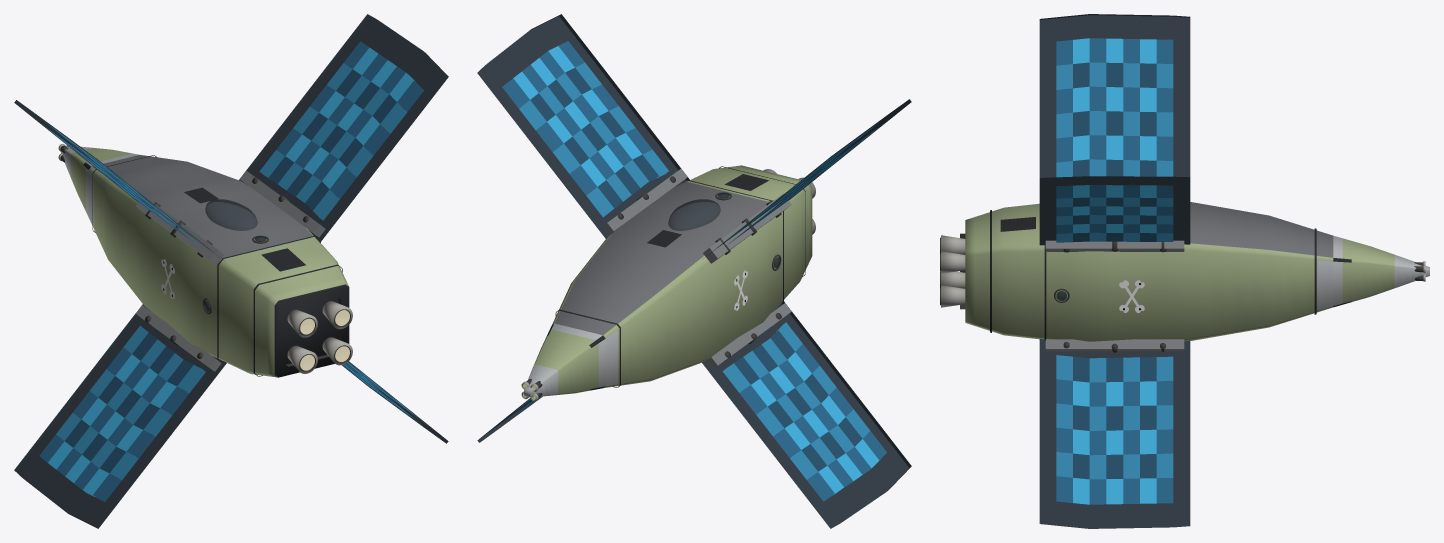
The model's file is Ship_Crosspanel_10.glb.
The picture shows the model from 3 angles, left to right: view 1: azimuth 30°, elevation 25°; view 2: azimuth 150°, elevation 25°; view 3: azimuth 270°, elevation 25°; orthographic projection. The views are drawn at different scales.
Parts seen in each view (by area): view 1: Fuselage_SquareBody, SolarPanelWing_TopRightRidge_RectangularPhotovoltaicGrid, SolarPanelWing_LowerLeftRidge_RectangularPhotovoltaicGrid, SolarPanelWing_TopLeftRidge_RectangularPhotovoltaicGrid, Nose_SquareTaperedForwardSection, Canopy_DorsalLowSquareBubble, SolarPanelWing_TopLeftRidge_RootHingeClamp, SolarPanelWing_TopRightRidge_RootHingeClamp, SolarPanelWing_LowerLeftRidge_RootHingeClamp, SolarPanelWing_LowerRightRidge_RectangularPhotovoltaicGrid, EngineEmitter, HullAccessPanel_TopAft; view 2: Fuselage_SquareBody, SolarPanelWing_TopRightRidge_RectangularPhotovoltaicGrid, SolarPanelWing_LowerLeftRidge_RectangularPhotovoltaicGrid, Nose_SquareTaperedForwardSection, SolarPanelWing_TopLeftRidge_RectangularPhotovoltaicGrid, Canopy_DorsalLowSquareBubble, SolarPanelWing_TopLeftRidge_RootHingeClamp, SolarPanelWing_TopRightRidge_RootHingeClamp, SolarPanelWing_LowerLeftRidge_RootHingeClamp; view 3: Fuselage_SquareBody, SolarPanelWing_LowerRightRidge_RectangularPhotovoltaicGrid, SolarPanelWing_TopLeftRidge_RectangularPhotovoltaicGrid, SolarPanelWing_TopRightRidge_RectangularPhotovoltaicGrid, Nose_SquareTaperedForwardSection, SolarPanelWing_LowerRightRidge_RootHingeClamp, SolarPanelWing_TopRightRidge_RootHingeClamp.
Part boxes in pixels (x1,y1,x2,y2): Fuselage_SquareBody: [88, 155, 349, 377]; SolarPanelWing_TopRightRidge_RectangularPhotovoltaicGrid: [239, 14, 448, 242]; SolarPanelWing_LowerLeftRidge_RectangularPhotovoltaicGrid: [14, 304, 226, 528]; SolarPanelWing_TopLeftRidge_RectangularPhotovoltaicGrid: [14, 100, 224, 261]; Nose_SquareTaperedForwardSection: [61, 145, 139, 216]; Canopy_DorsalLowSquareBubble: [205, 199, 257, 230]; SolarPanelWing_TopLeftRidge_RootHingeClamp: [136, 196, 224, 265]; SolarPanelWing_TopRightRidge_RootHingeClamp: [240, 171, 325, 237]; SolarPanelWing_LowerLeftRidge_RootHingeClamp: [136, 305, 221, 371]; SolarPanelWing_LowerRightRidge_RectangularPhotovoltaicGrid: [342, 361, 448, 443]; EngineEmitter: [300, 310, 349, 370]; HullAccessPanel_TopAft: [261, 248, 305, 271]; Fuselage_SquareBody: [552, 165, 812, 388]; SolarPanelWing_TopRightRidge_RectangularPhotovoltaicGrid: [477, 14, 689, 238]; SolarPanelWing_LowerLeftRidge_RectangularPhotovoltaicGrid: [702, 301, 911, 528]; Nose_SquareTaperedForwardSection: [524, 323, 605, 397]; SolarPanelWing_TopLeftRidge_RectangularPhotovoltaicGrid: [703, 99, 911, 258]; Canopy_DorsalLowSquareBubble: [668, 199, 720, 230]; SolarPanelWing_TopLeftRidge_RootHingeClamp: [703, 193, 791, 263]; SolarPanelWing_TopRightRidge_RootHingeClamp: [602, 169, 687, 235]; SolarPanelWing_LowerLeftRidge_RootHingeClamp: [706, 303, 791, 369]; Fuselage_SquareBody: [965, 202, 1333, 341]; SolarPanelWing_LowerRightRidge_RectangularPhotovoltaicGrid: [1039, 339, 1190, 528]; SolarPanelWing_TopLeftRidge_RectangularPhotovoltaicGrid: [1039, 14, 1190, 177]; SolarPanelWing_TopRightRidge_RectangularPhotovoltaicGrid: [1039, 176, 1190, 245]; Nose_SquareTaperedForwardSection: [1333, 235, 1429, 307]; SolarPanelWing_LowerRightRidge_RootHingeClamp: [1045, 339, 1184, 351]; SolarPanelWing_TopRightRidge_RootHingeClamp: [1045, 240, 1184, 251].
Size of the model in its own units: 5.63 by 5.63 by 7.09.
